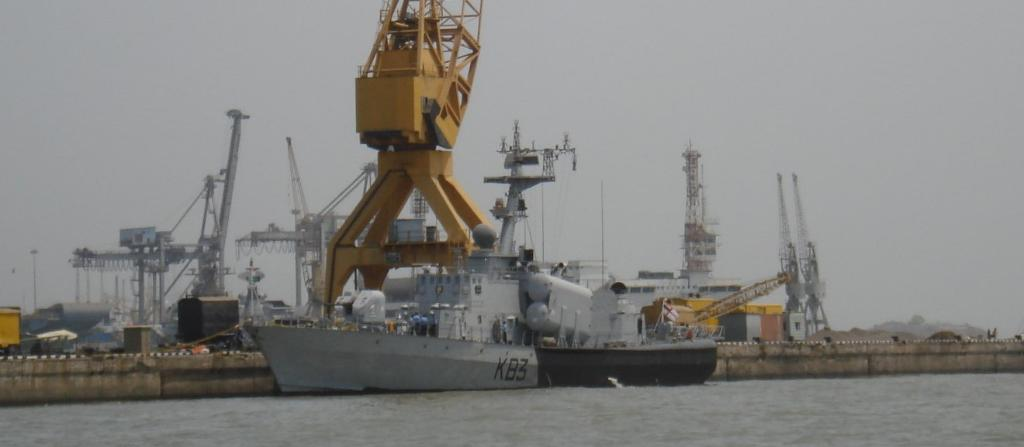Warship: (259, 225, 713, 397)
